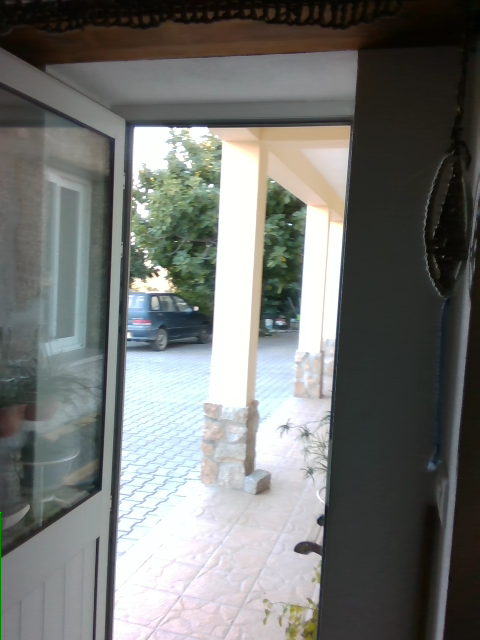open: (0, 46, 360, 639)
